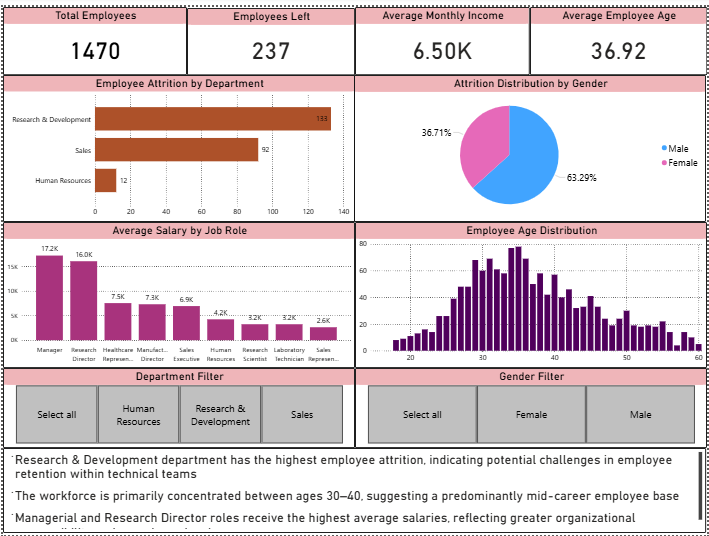

What the dashboard file says about the page in this screenshot:
{"tool":"powerbi","page":{"name":"Page 1","canvas":[1600,1200],"ordinal":0},"visuals":[{"type":"card","title":"Total Employees","fields":{"Values":["CountNonNull(HR-Employee-Attrition.EmployeeCount)"]},"box":[0,0,418.4,155.3],"z":0},{"type":"card","title":"Employees Left","fields":{"Values":["CountNonNull(HR-Employee-Attrition.Attrition)"]},"box":[418.4,2.6,381.6,152.6],"z":1000},{"type":"card","title":"Average Monthly Income","fields":{"Values":["Avg(HR-Employee-Attrition.MonthlyIncome)"]},"box":[800,0,397.4,155.3],"z":2000},{"type":"card","title":"Average Employee Age","fields":{"Values":["Avg(HR-Employee-Attrition.Age)"]},"box":[1197.4,0,402.6,155.3],"z":3000},{"type":"barChart","title":"Employee Attrition by Department","fields":{"Category":["HR-Employee-Attrition.Department"],"Y":["CountNonNull(HR-Employee-Attrition.Attrition)"]},"box":[0,155.3,800,334.2],"z":4000},{"type":"pieChart","title":"Attrition Distribution by Gender","fields":{"Category":["HR-Employee-Attrition.Gender"],"Y":["CountNonNull(HR-Employee-Attrition.Attrition)"]},"box":[797.4,155.3,800,334.2],"z":5000},{"type":"columnChart","title":"Average Salary by Job Role","fields":{"Category":["HR-Employee-Attrition.JobRole"],"Y":["Avg(HR-Employee-Attrition.MonthlyIncome)"]},"box":[0,489.5,800,331.6],"z":6000},{"type":"clusteredColumnChart","title":"Employee Age Distribution","fields":{"Category":["HR-Employee-Attrition.Age"],"Y":["CountNonNull(HR-Employee-Attrition.EmployeeNumber)"]},"box":[800,489.5,800,331.6],"z":7000},{"type":"slicer","title":"Department Filter","fields":{"Values":["HR-Employee-Attrition.Department"]},"box":[0,821.1,800,181.6],"z":7001},{"type":"slicer","title":"Gender Filter","fields":{"Values":["HR-Employee-Attrition.Gender"]},"box":[800,821.1,800,181.6],"z":7002},{"type":"textbox","box":[0,1002.3,1597.7,193.2],"z":7003}]}

Visuals, with their boxes in screenshot pixels (x1, y1, x2, y2), scaled from the page's 1600x1200 canvas onto the 709x536 screenshot:
"Total Employees" card: (0,0,185,69)
"Employees Left" card: (185,1,354,69)
"Average Monthly Income" card: (354,0,531,69)
"Average Employee Age" card: (531,0,708,69)
"Employee Attrition by Department" barChart: (0,69,354,219)
"Attrition Distribution by Gender" pieChart: (353,69,708,219)
"Average Salary by Job Role" columnChart: (0,219,354,367)
"Employee Age Distribution" clusteredColumnChart: (354,219,708,367)
"Department Filter" slicer: (0,367,354,448)
"Gender Filter" slicer: (354,367,708,448)
textbox: (0,448,708,534)
